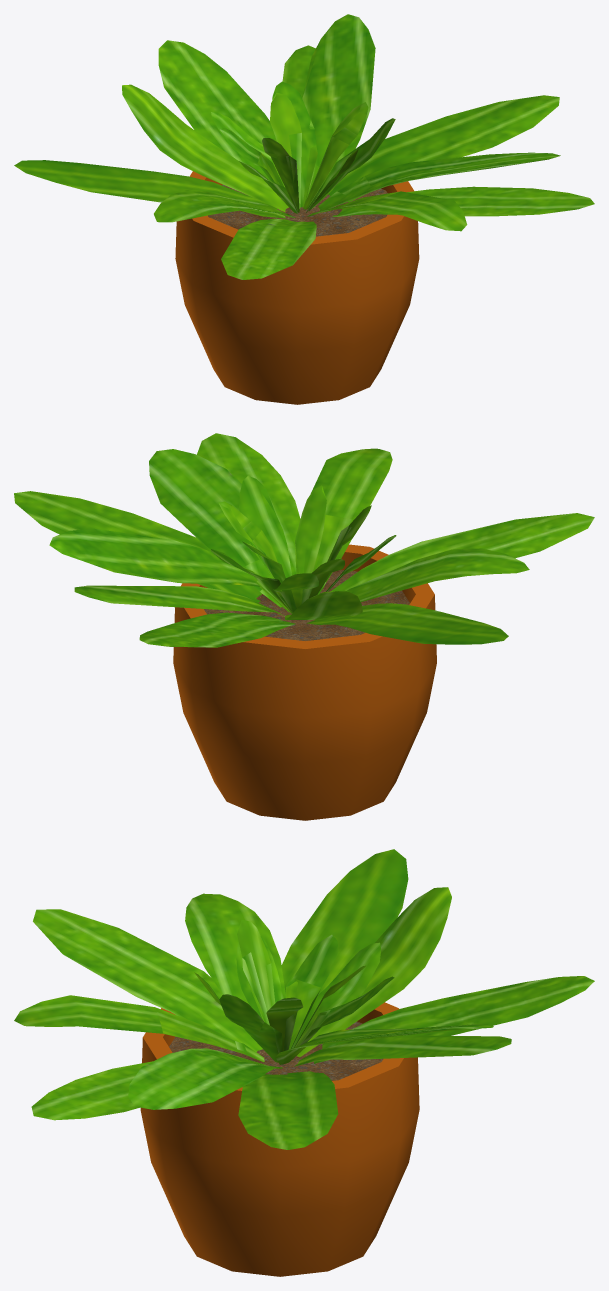
Rendered from Plant_2.fbx.
3 renders of one model, top to bottom at view 1: azimuth 30°, elevation 25°; view 2: azimuth 150°, elevation 25°; view 3: azimuth 270°, elevation 25°, orthographic. The views are drawn at different scales.
Visible parts, largest first — view 1: Plant_2_LOD_0; view 2: Plant_2_LOD_0; view 3: Plant_2_LOD_0.
Part boxes in pixels (box(x1,y1,x2,y2)): Plant_2_LOD_0: box(14, 14, 594, 404); Plant_2_LOD_0: box(14, 433, 594, 820); Plant_2_LOD_0: box(14, 849, 594, 1276).
Size of what is drawn, in the model's own units: 111 by 54.39 by 98.02.
